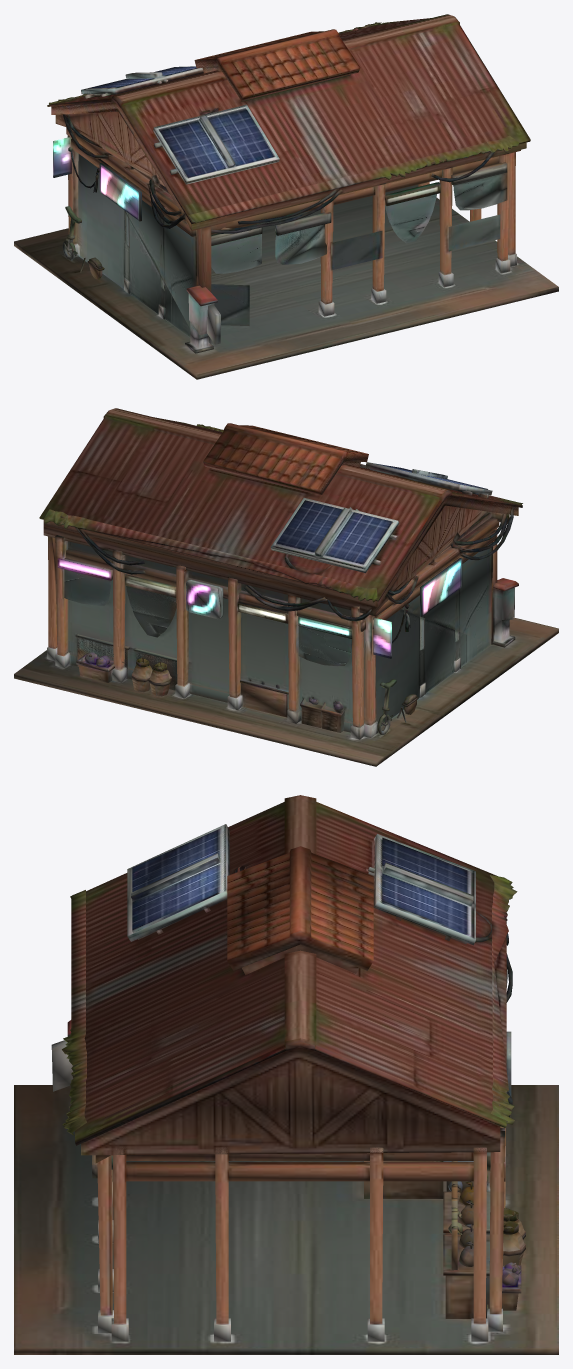
File: wet_market.glb
3 renders of one model, top to bottom at view 1: azimuth 30°, elevation 25°; view 2: azimuth 150°, elevation 25°; view 3: azimuth 270°, elevation 25°, orthographic. The views are drawn at different scales.
Visible parts, largest first — view 1: Body, Glow; view 2: Body, Glow; view 3: Body.
Boxes of the visible parts, x1,y1,x2,y2 form: Body: (14, 14, 558, 379); Glow: (53, 137, 139, 220); Body: (14, 408, 558, 766); Glow: (57, 558, 462, 658); Body: (14, 795, 558, 1354).
Size of the model in its own units: 16 by 9.42 by 14.
Materials: 2 (2 with a texture image).
